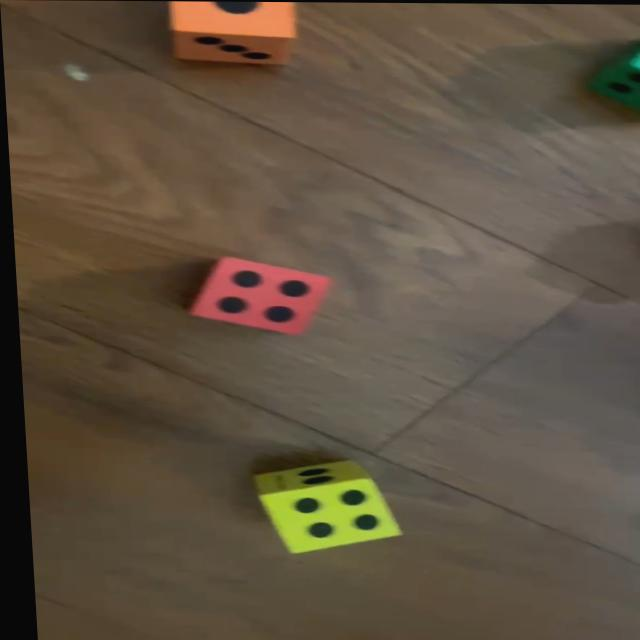red_block: (185, 257, 333, 334)
